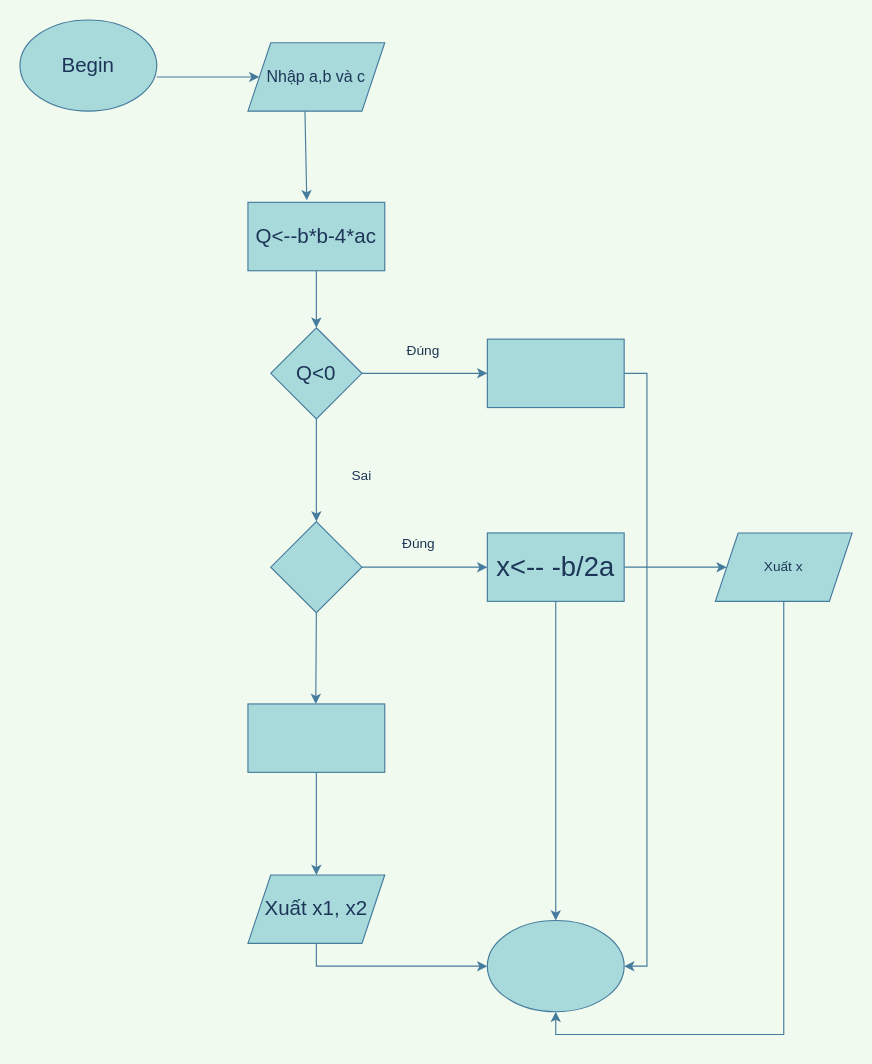
This 872x1064 diagram has some shape labels left out. Each missing label, with the centre of its shape:
"end" goes at [555,965].
"Q=0" goes at [316,566].
"Vô Nghiệm" goes at [555,373].
"x1<--(-b+canQ)/2a x2<--(-b-canQ)/2a" goes at [316,737].
